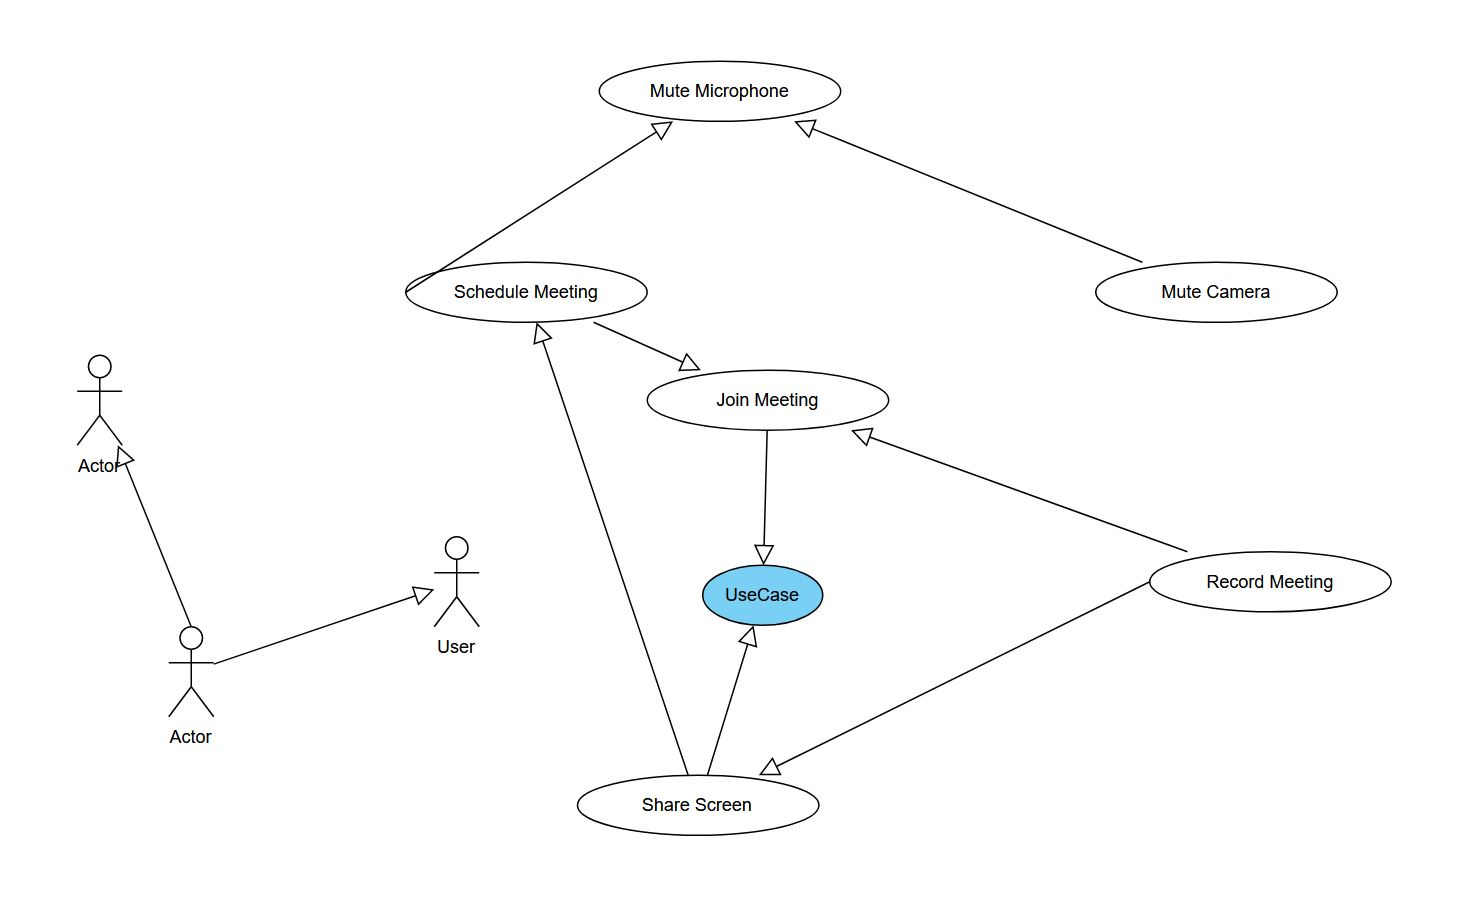actor: (73, 351, 126, 448), (431, 533, 482, 630), (163, 626, 216, 719)
generalization: (761, 583, 1148, 777), (536, 323, 690, 774), (794, 120, 1141, 261), (408, 120, 673, 292), (851, 428, 1186, 551), (213, 584, 432, 665), (114, 447, 190, 624), (709, 624, 757, 771)
text: (445, 277, 602, 307), (1201, 568, 1337, 595), (1155, 276, 1274, 304), (644, 80, 791, 102), (714, 389, 825, 414), (639, 793, 753, 816), (720, 581, 800, 607), (73, 451, 122, 477), (430, 634, 482, 657), (168, 725, 216, 747)
use_case: (600, 60, 842, 124), (1150, 551, 1392, 614), (402, 263, 647, 324), (648, 368, 889, 429), (1094, 262, 1339, 321), (577, 777, 820, 836)
